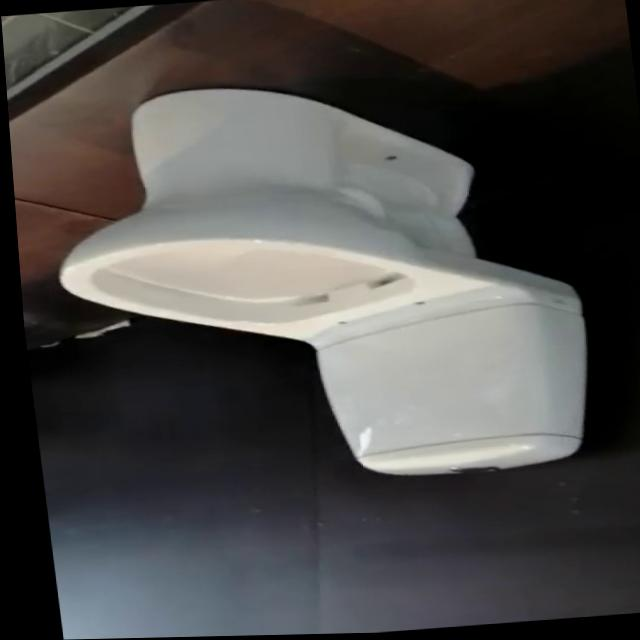toilet: (31, 65, 598, 505)
